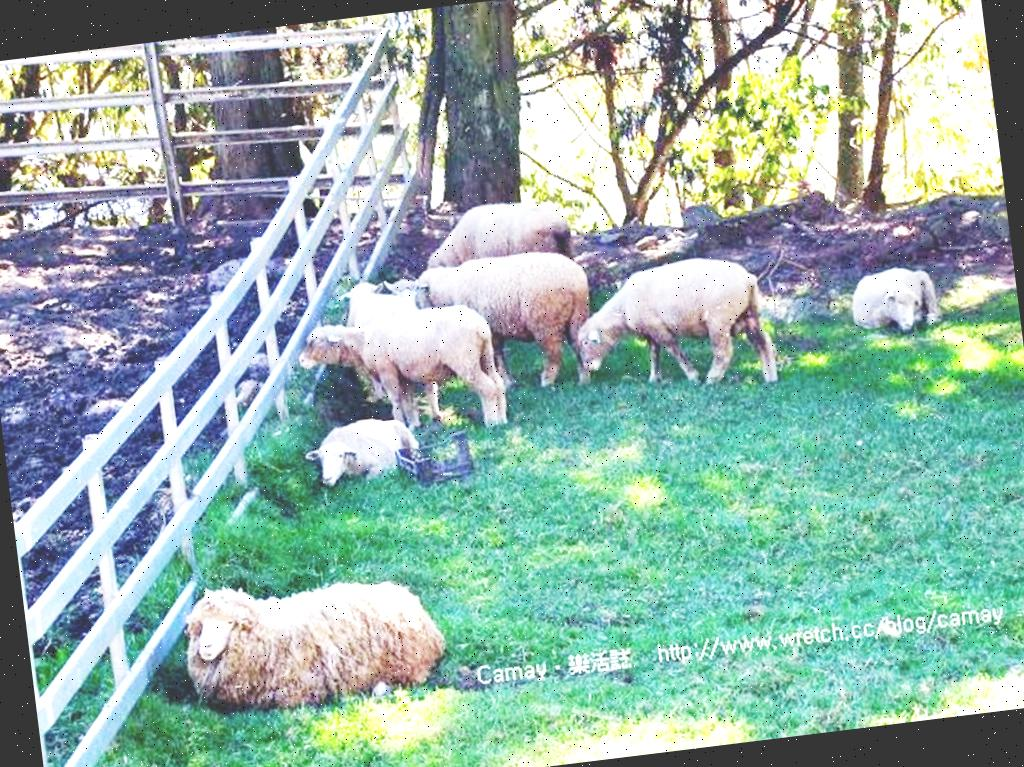Sheep: (178, 568, 452, 708), (291, 293, 514, 454), (567, 246, 783, 404), (411, 242, 600, 410), (336, 266, 446, 406), (411, 192, 578, 272), (839, 258, 949, 346), (308, 410, 410, 482)
